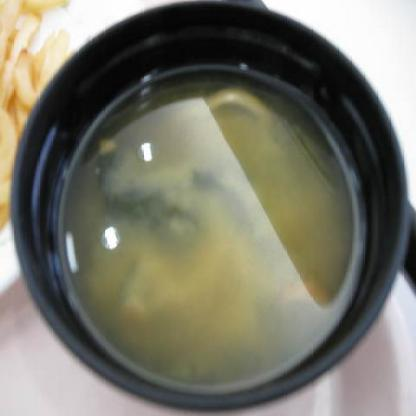miso soup: (59, 58, 365, 395)
